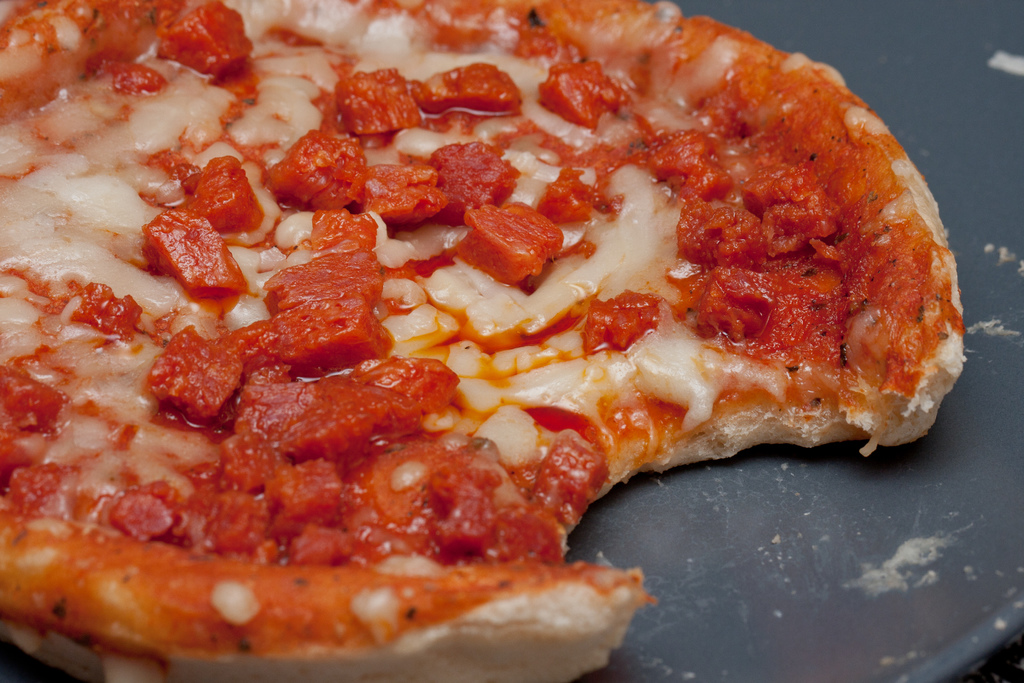Pizza: (1, 0, 1024, 677)
